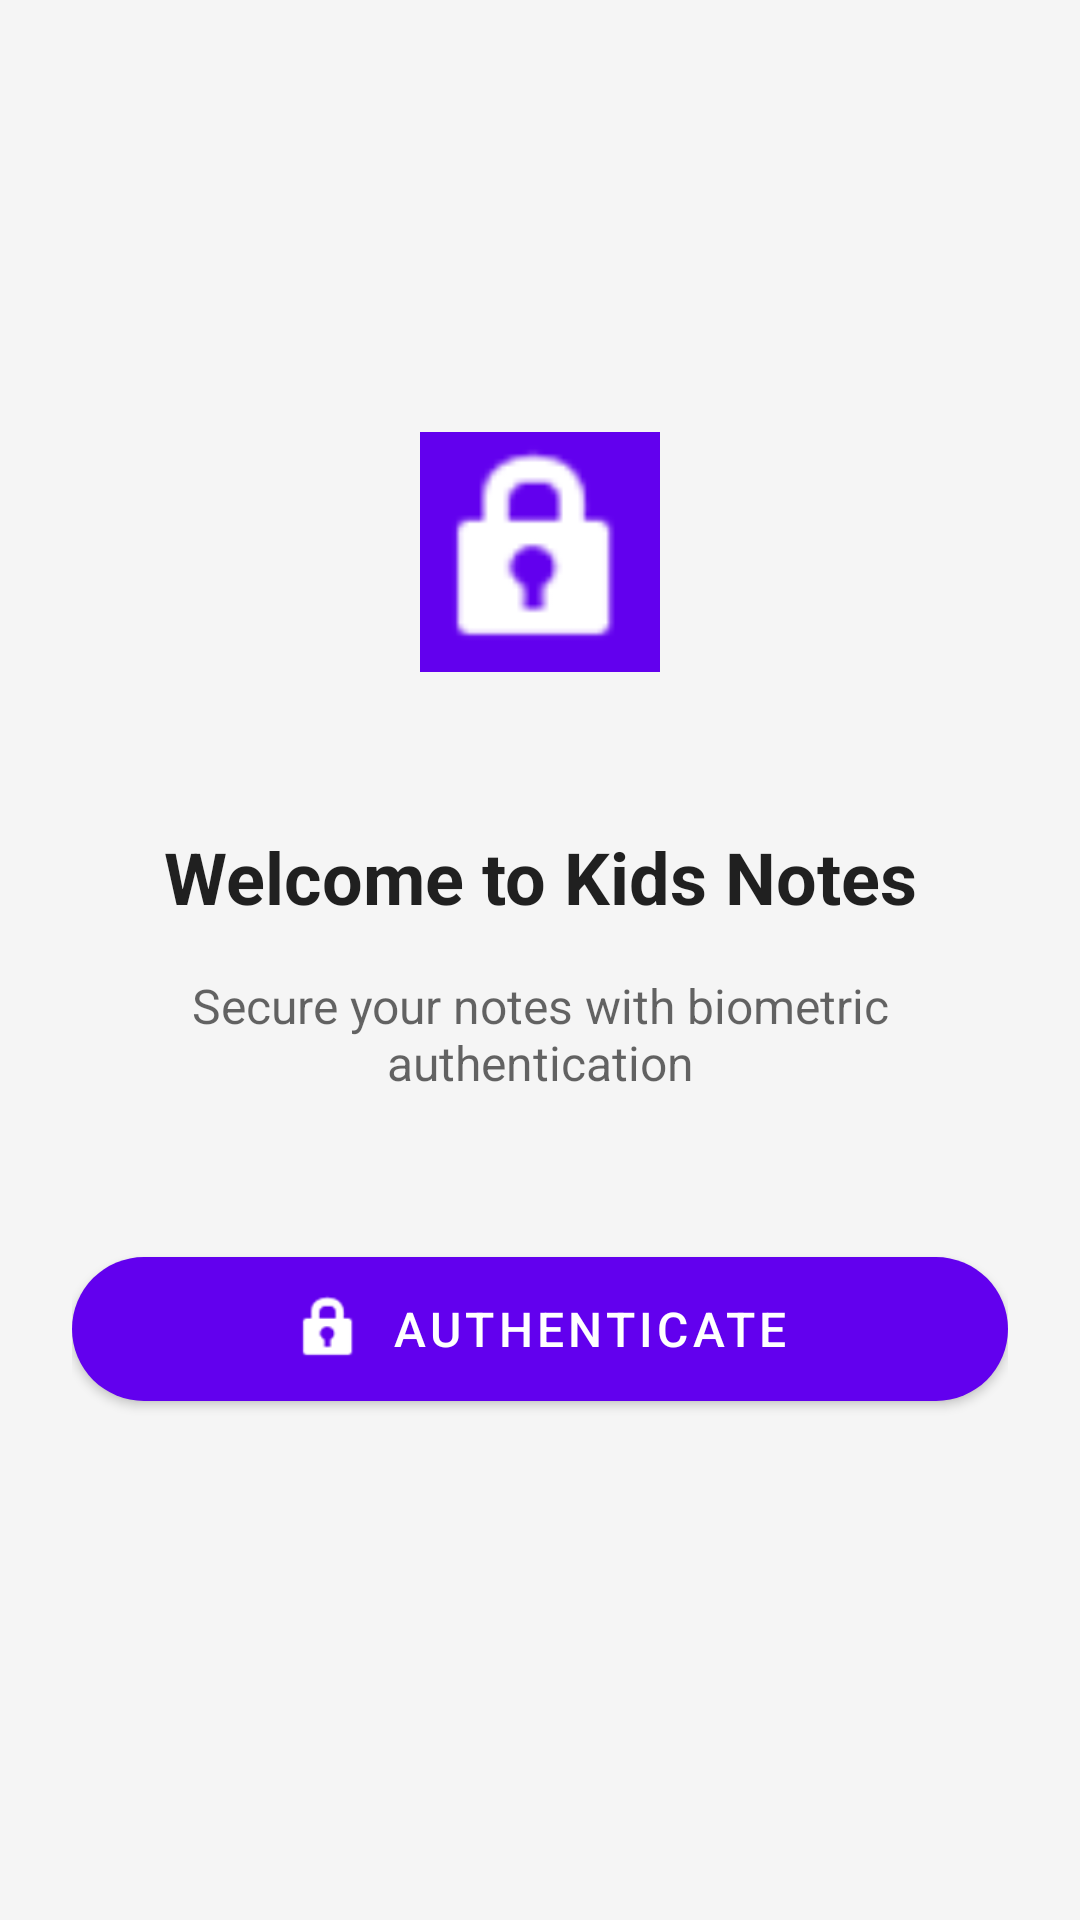

Where icons sit on this 1080×1920 app screen, as (x1, y1, x2, y2):
lock idle: (420, 432, 660, 672)
